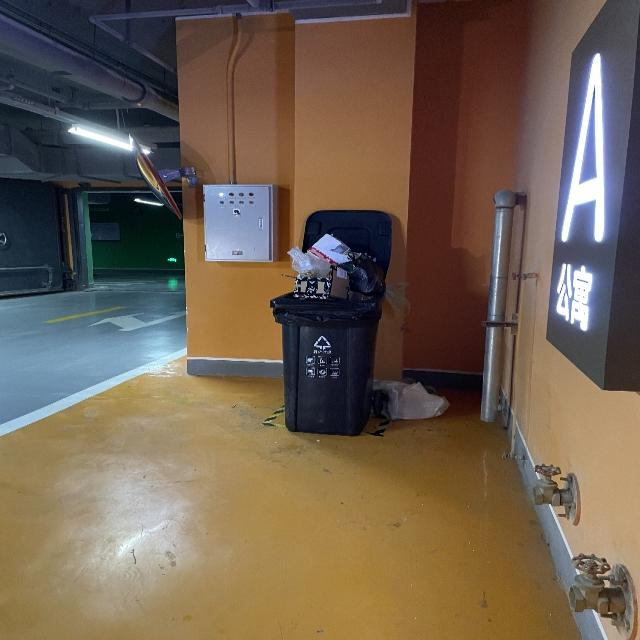garbage: (369, 379, 448, 419)
overflow: (268, 234, 384, 436)
